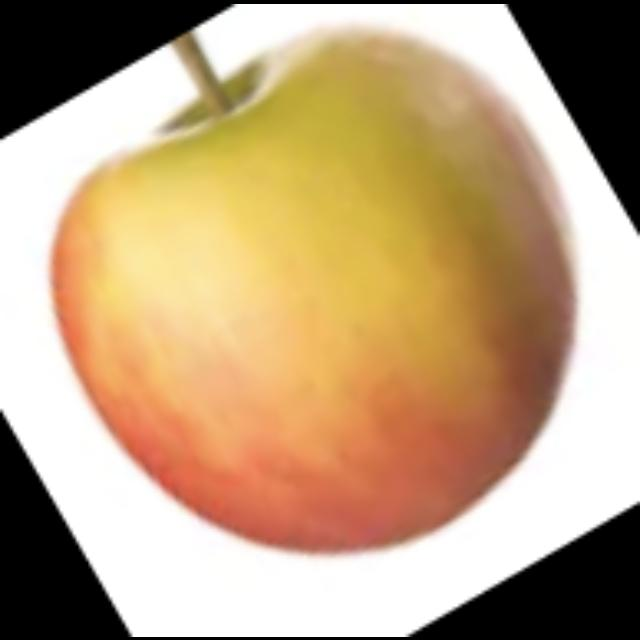Apel Segar: (49, 23, 581, 557)
